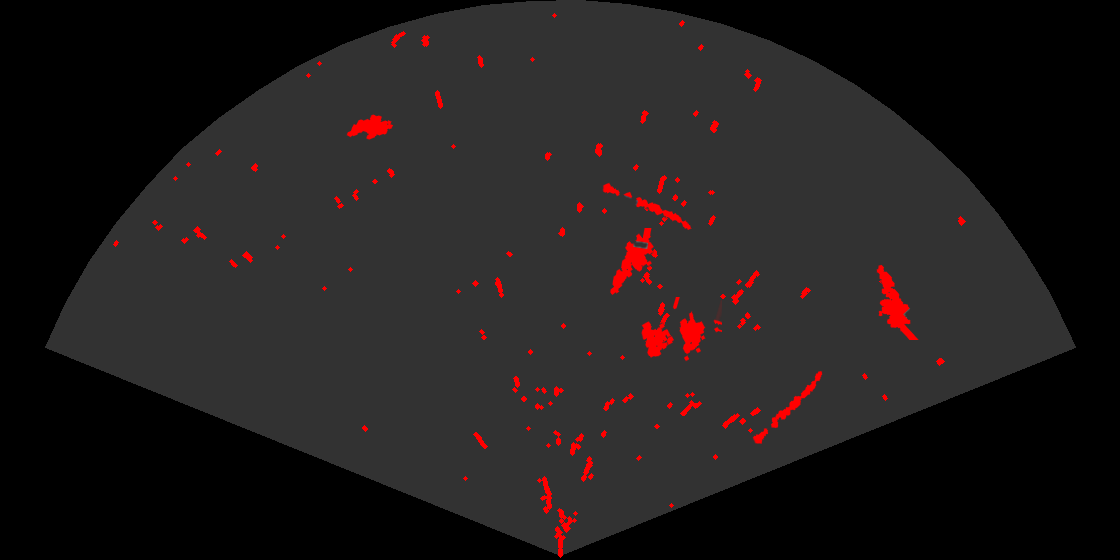AUV: (345, 113, 395, 141)
cage: (640, 297, 722, 363)
chain: (751, 369, 824, 445), (601, 181, 693, 231)
frogman: (875, 263, 920, 340), (609, 228, 655, 297)
